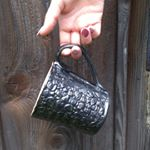cups: (29, 43, 111, 138)
